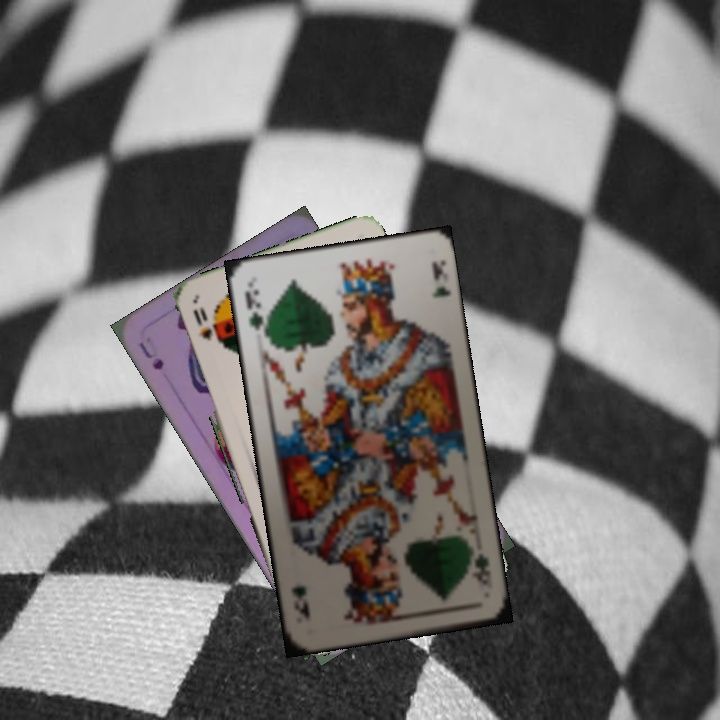GK: (240, 285, 271, 340), (469, 550, 496, 588)
SO: (188, 304, 215, 344)
SU: (134, 337, 167, 373)
